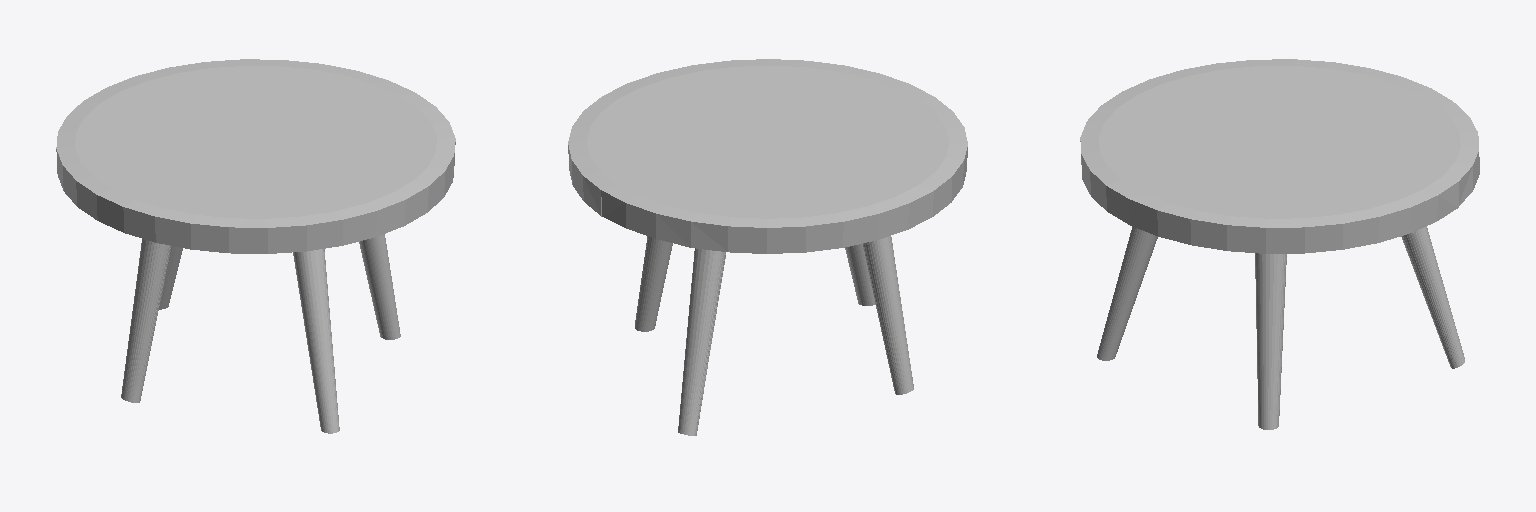
File: table2final2.obj
3 renders of one model, left to right at view 1: azimuth 30°, elevation 25°; view 2: azimuth 150°, elevation 25°; view 3: azimuth 270°, elevation 25°, orthographic.
Parts seen in each view (by area): view 1: Cylinder; view 2: Cylinder; view 3: Cylinder.
Part boxes in pixels (left/top/right/bottom): Cylinder: left=56, top=59, right=455, bottom=433; Cylinder: left=568, top=59, right=967, bottom=435; Cylinder: left=1080, top=59, right=1479, bottom=429.
Size of the model in its own units: 0.7306 by 0.4593 by 0.7311.